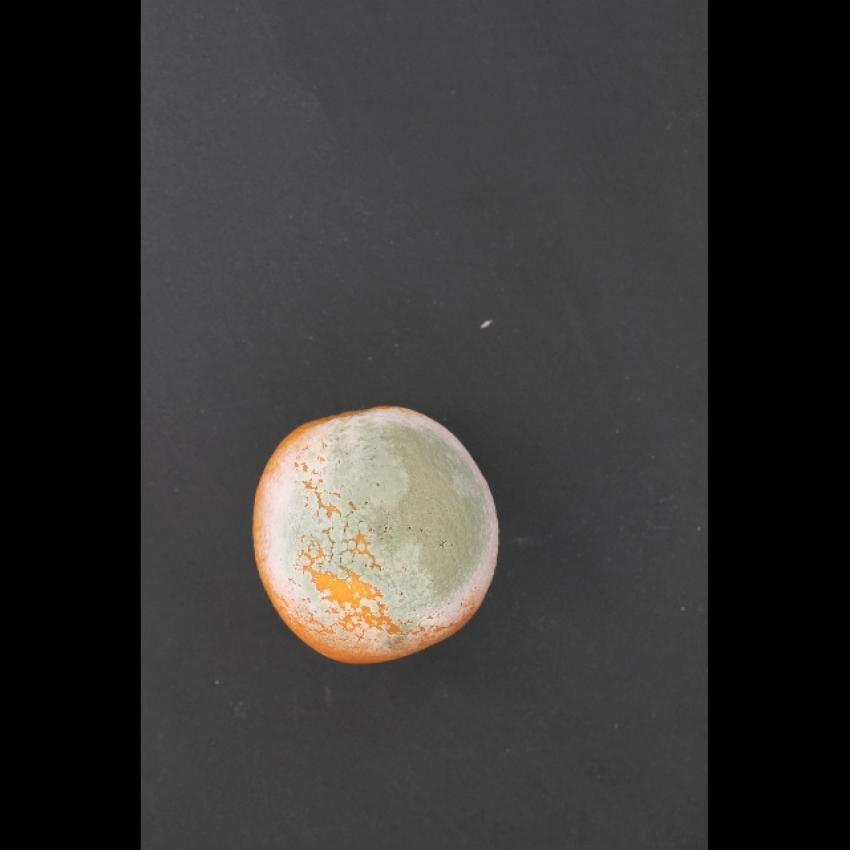Mal estado: (245, 398, 511, 674)
